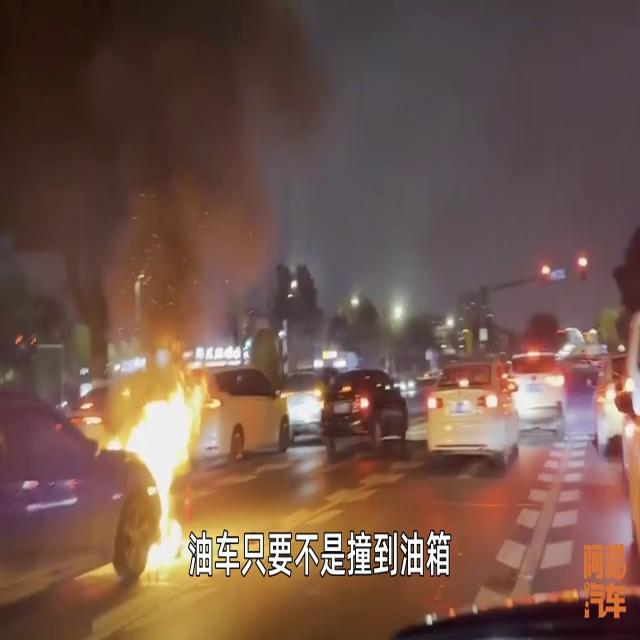Fire: (109, 354, 215, 580)
Smoke: (0, 1, 337, 327)
